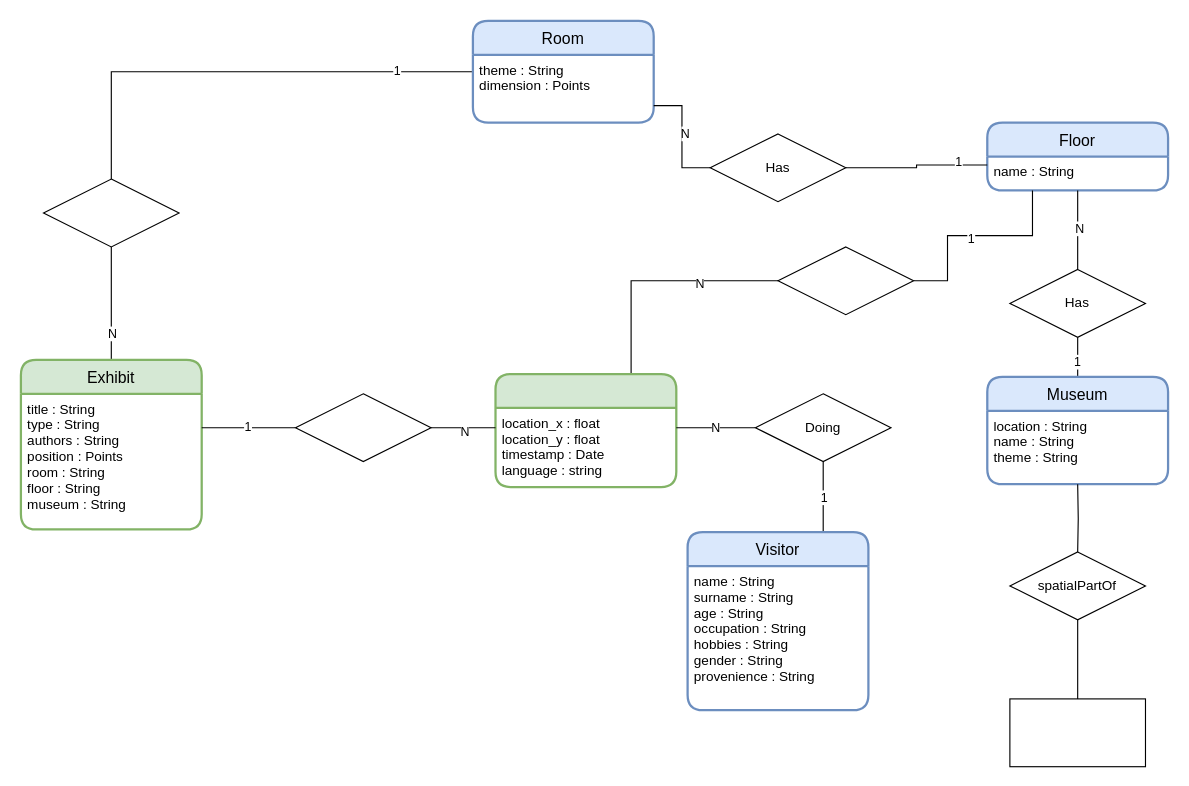
This 1189x786 diagram has some shape labels left out. Here are the shapes that lost their labels. From the top down, the box of each, then its label:
(42, 178, 179, 247): Contains
(777, 246, 914, 315): In
(294, 393, 431, 462): Involves
(494, 372, 677, 488): Action
(1009, 698, 1145, 767): Everything
